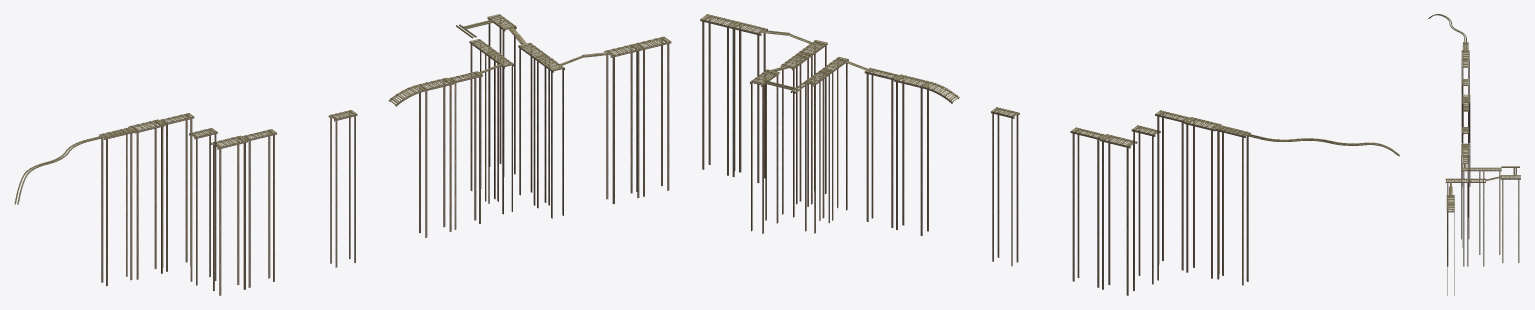
The picture shows the model from 3 angles, left to right: view 1: azimuth 30°, elevation 25°; view 2: azimuth 150°, elevation 25°; view 3: azimuth 270°, elevation 25°; orthographic projection. The views are drawn at different scales.
Parts seen in each view (by area): view 1: Ramp_001__51_, Ramp_001__16_, Ramp_001__15_, Ramp_001__54_, Ramp_001__19__1, Ramp_001__52_, Ramp_001__18_, Ramp_001__59_, Ramp_001__19_, Ramp_001__53_, Ramp_001__55_, Ramp_001__58_ (+5 smaller); view 2: Ramp_001__51_, Ramp_001__52_, Ramp_001__15_, Ramp_001__19__1, Ramp_001__59_, Ramp_001__16_, Ramp_001__55_, Ramp_001__17_, Ramp_001__58_, Ramp_001__57_, Ramp_001__19_, Ramp_001__18_ (+5 smaller); view 3: Ramp_001__54_, Ramp_001__55_, Ramp_001__53_, Ramp_001__15_, Ramp_001__19_, Ramp_001__16_, Ramp_001__56_, Ramp_001__57_, Ramp_001__52_, Ramp_001__58_, pipe__1_, Ramp_001__18_ (+5 smaller).
Part boxes in pixels (x1,y1,x2,y2): Ramp_001__51_: (604, 44, 640, 204); Ramp_001__16_: (211, 135, 247, 295); Ramp_001__15_: (417, 77, 453, 237); Ramp_001__54_: (518, 42, 547, 205); Ramp_001__19__1: (99, 127, 134, 286); Ramp_001__52_: (635, 36, 671, 196); Ramp_001__18_: (159, 113, 194, 271); Ramp_001__59_: (328, 110, 357, 267); Ramp_001__19_: (128, 119, 165, 279); Ramp_001__53_: (536, 55, 564, 218); Ramp_001__55_: (487, 14, 516, 176); Ramp_001__58_: (448, 71, 482, 229); Ramp_001__51_: (730, 21, 767, 182); Ramp_001__52_: (700, 14, 737, 175); Ramp_001__15_: (894, 74, 930, 235); Ramp_001__19__1: (1215, 125, 1250, 285); Ramp_001__59_: (991, 107, 1019, 266); Ramp_001__16_: (1100, 134, 1137, 295); Ramp_001__55_: (750, 69, 779, 233); Ramp_001__17_: (1070, 127, 1105, 287); Ramp_001__58_: (864, 67, 899, 227); Ramp_001__57_: (821, 57, 848, 220); Ramp_001__19_: (1184, 117, 1221, 278); Ramp_001__18_: (1155, 110, 1189, 270); Ramp_001__54_: (1466, 178, 1485, 266); Ramp_001__55_: (1500, 175, 1520, 262); Ramp_001__53_: (1445, 178, 1465, 266); Ramp_001__15_: (1461, 146, 1469, 239); Ramp_001__19_: (1461, 50, 1469, 142); Ramp_001__16_: (1462, 94, 1470, 186); Ramp_001__56_: (1481, 167, 1501, 254); Ramp_001__57_: (1461, 167, 1481, 254); Ramp_001__52_: (1446, 203, 1454, 295); Ramp_001__58_: (1462, 155, 1468, 247); pipe__1_: (1428, 14, 1466, 49); Ramp_001__18_: (1462, 58, 1468, 143).
Size of the model in its own units: 11023 by 2908 by 2311.
